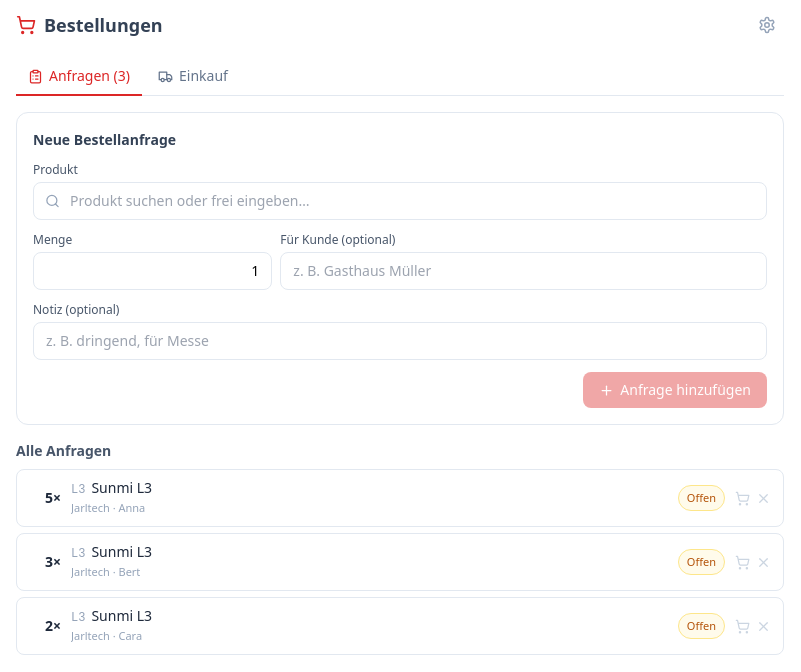
Test: ProcurementPage — Einkauf (admin aggregation) › aggregates the three open requests into one 10× line under Jarltech
Expected: the number of list items with test id "request-row" is 3, 16,469 -> 784,527; 16,533 -> 784,591; 16,597 -> 784,655
Step 1. Click the button "Einkauf" → (193, 77), box 146,58 -> 240,96
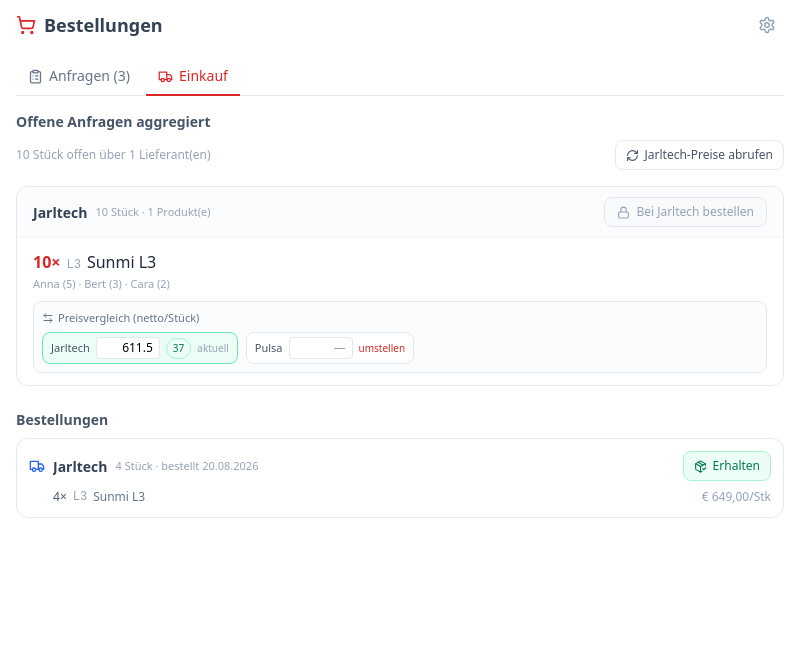
Now the heading "Jarltech" is shown, box 33,202 -> 88,222
Now the text "10×" is shown, box 33,251 -> 60,273
Now the text "Sunmi L3" is shown, box 87,251 -> 156,273
